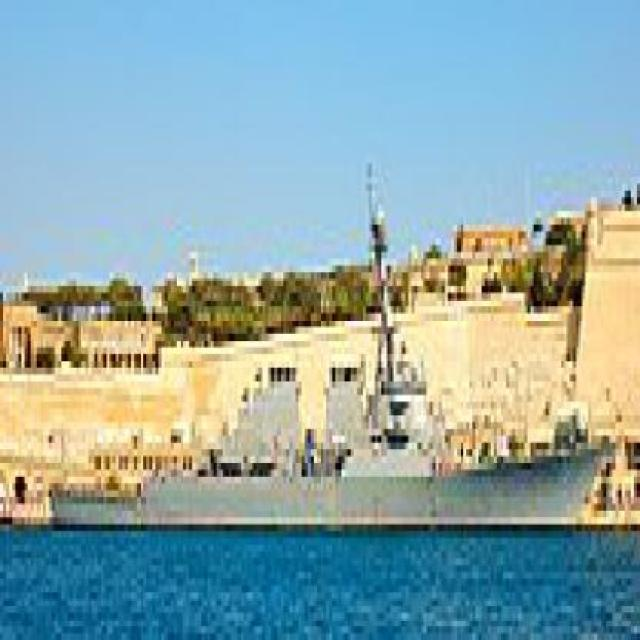warship2: (50, 185, 614, 539)
